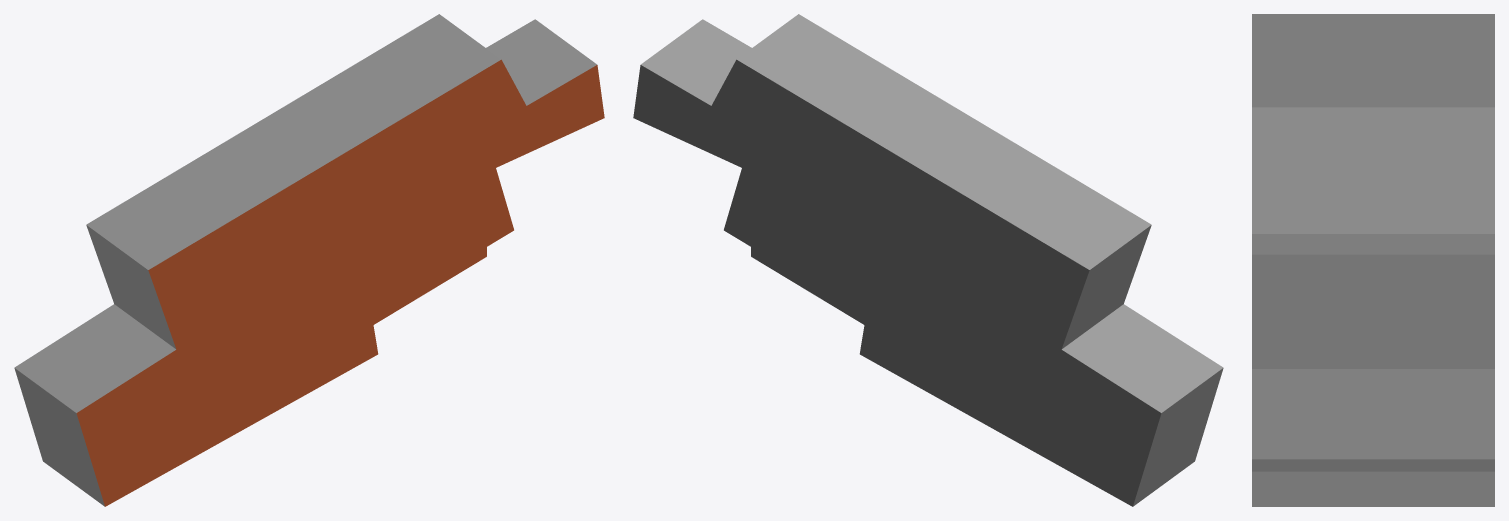
File: construction_3923_assumed_A_Casa_h6m.obj
3 renders of one model, left to right at view 1: azimuth 30°, elevation 25°; view 2: azimuth 150°, elevation 25°; view 3: azimuth 270°, elevation 25°, orthographic. The views are drawn at different scales.
Parts seen in each view (by area): view 1: construction_3923_assumed_A_Casa; view 2: construction_3923_assumed_A_Casa; view 3: construction_3923_assumed_A_Casa.
Boxes of the visible parts, x1,y1,x2,y2 form: construction_3923_assumed_A_Casa: [14, 14, 604, 506]; construction_3923_assumed_A_Casa: [633, 14, 1223, 506]; construction_3923_assumed_A_Casa: [1252, 14, 1494, 506].
Bounding box in the file's own units: 29.42 × 18.67 × 6.
